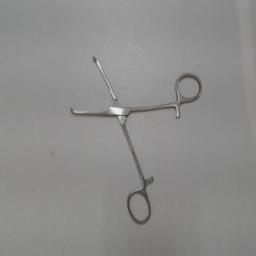Allis Tissue Forceps: (64, 48, 204, 230)
